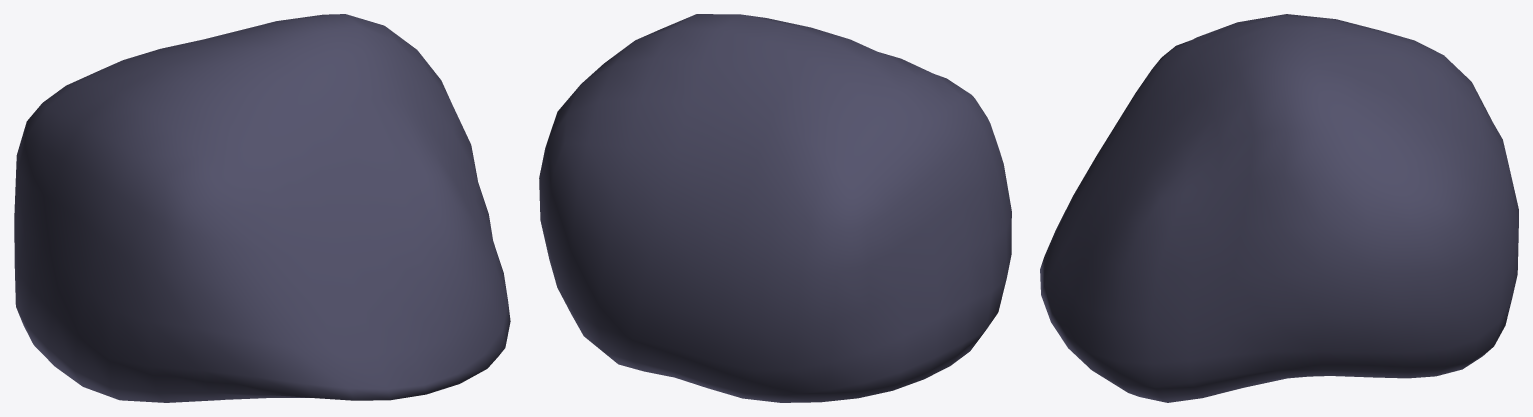
The model's file is Rock_A_02.fbx.
3 views of the same model, side by side, from view 1: azimuth 30°, elevation 25°; view 2: azimuth 150°, elevation 25°; view 3: azimuth 270°, elevation 25° (orthographic). The views are drawn at different scales.
Visible parts, largest first — view 1: Rock_A_02_LOD0; view 2: Rock_A_02_LOD0; view 3: Rock_A_02_LOD0.
Part boxes in pixels (left/top/right/bottom): Rock_A_02_LOD0: left=14, top=14, right=510, bottom=402; Rock_A_02_LOD0: left=539, top=14, right=1011, bottom=402; Rock_A_02_LOD0: left=1040, top=14, right=1518, bottom=402.
Size of what is drawn, in the model's own units: 347 by 245 by 359.
